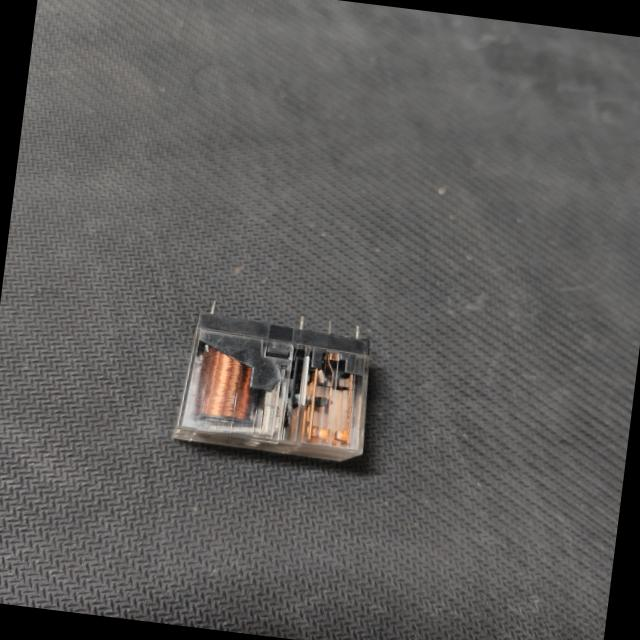relay: (162, 291, 400, 479)
